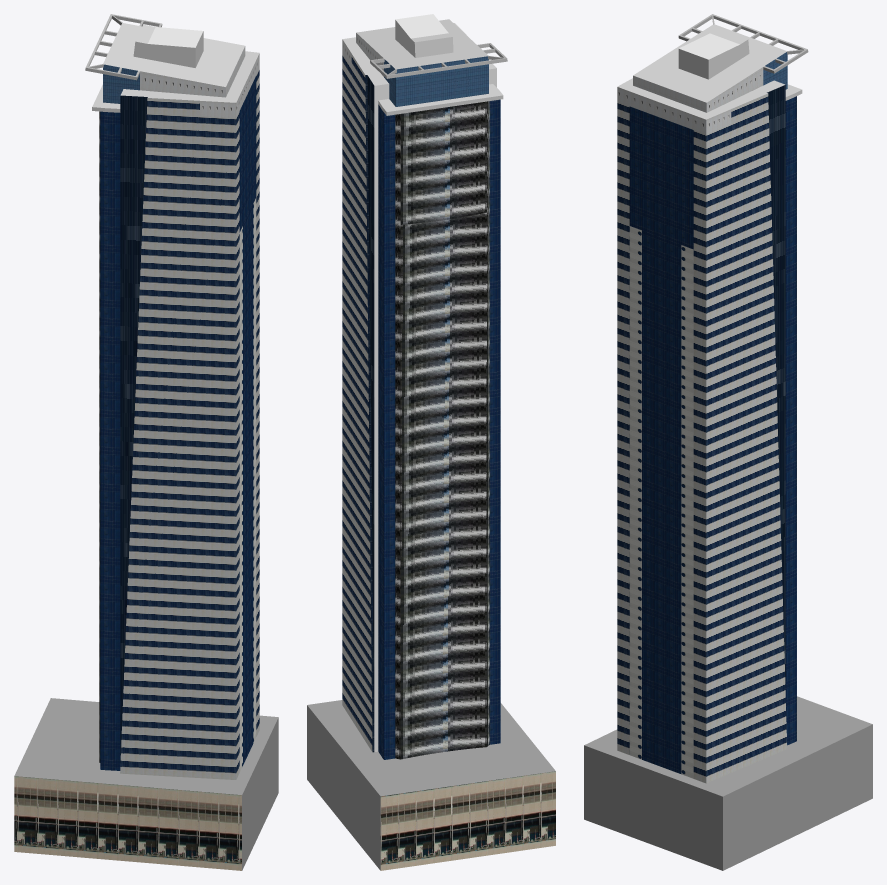
The model's file is La-Reve-(Dubai---EAU).fbx.
3 renders of one model, left to right at view 1: azimuth 30°, elevation 25°; view 2: azimuth 150°, elevation 25°; view 3: azimuth 270°, elevation 25°, orthographic. The views are drawn at different scales.
Parts seen in each view (by area): view 1: Model; view 2: Model; view 3: Model.
Part boxes in pixels (<box>): Model: <box>14,14,278,870</box>; Model: <box>307,14,555,870</box>; Model: <box>584,14,872,870</box>.
Size of what is drawn, in the model's own units: 70.77 by 206 by 69.79.
